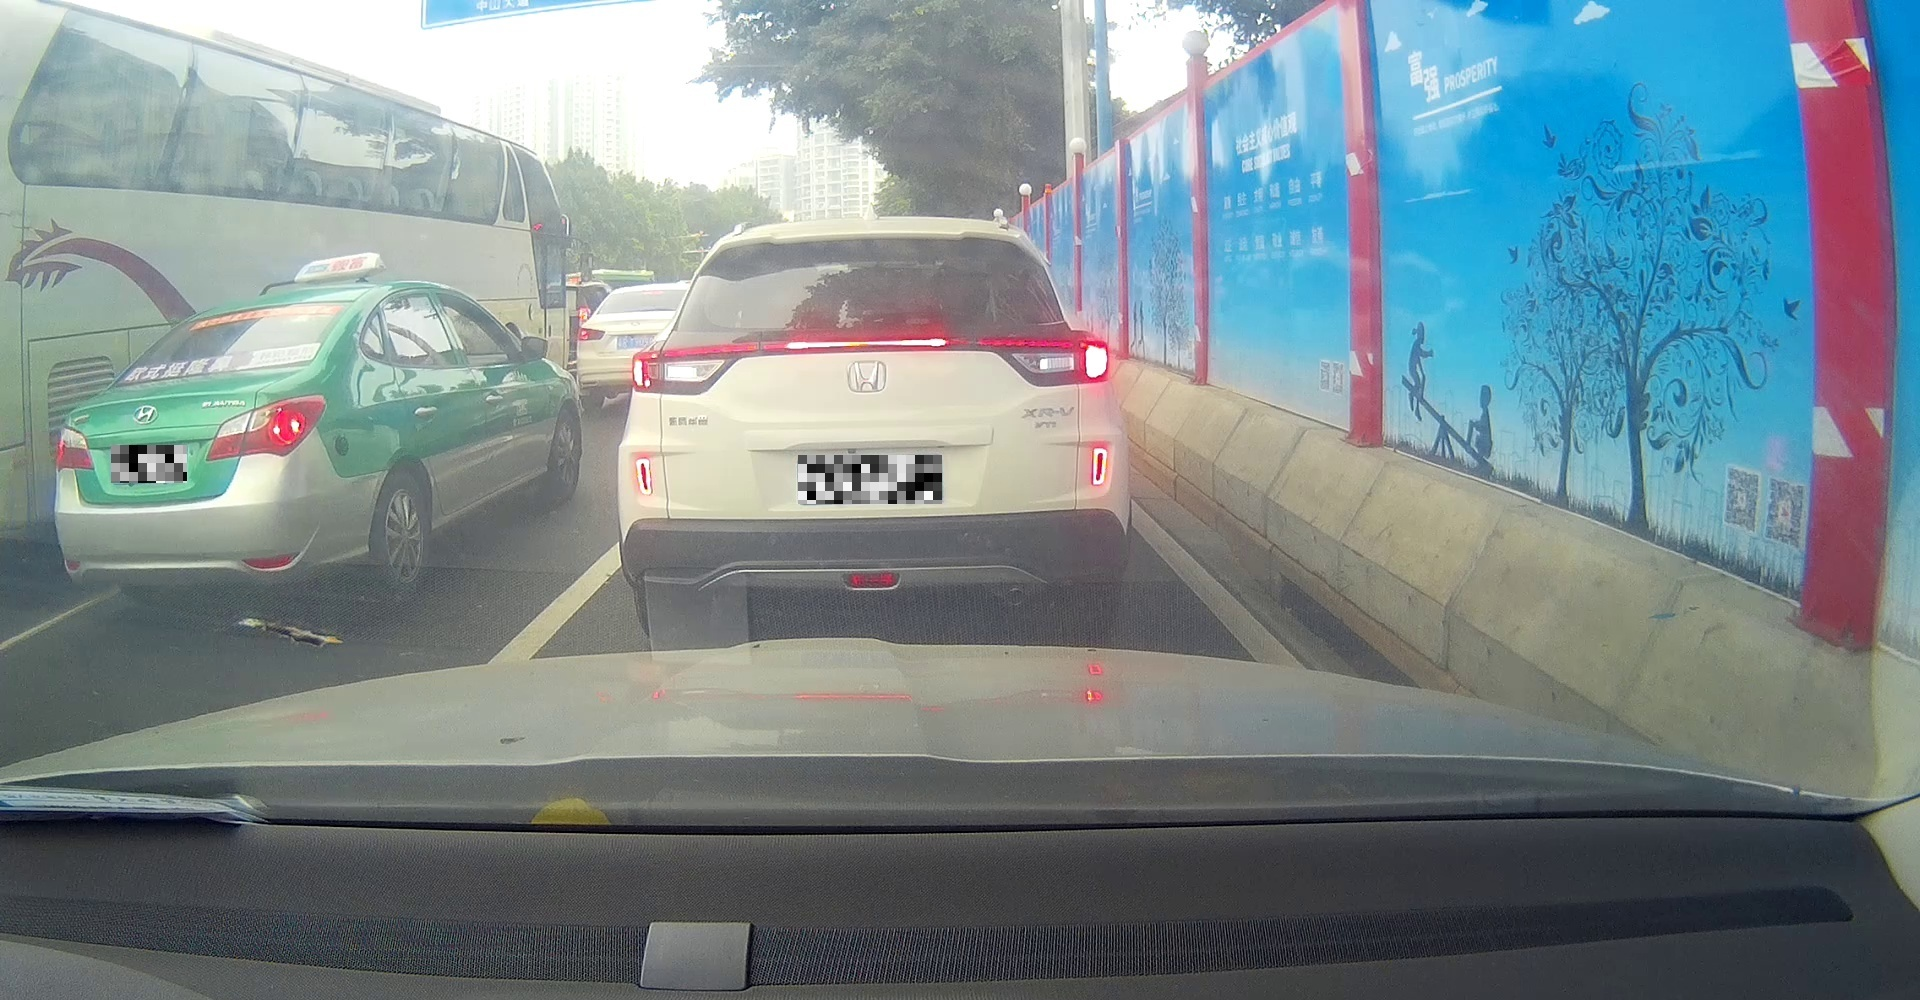L_light: (630, 341, 758, 393), (57, 426, 95, 472)
R_light: (204, 395, 328, 462), (982, 336, 1110, 387)
T_light: (783, 338, 947, 350), (259, 305, 297, 311)
day-brake: (618, 214, 1129, 637)
day-no: (55, 280, 382, 607)
plate_1: (110, 445, 187, 484)
plate_2: (797, 456, 942, 504)
